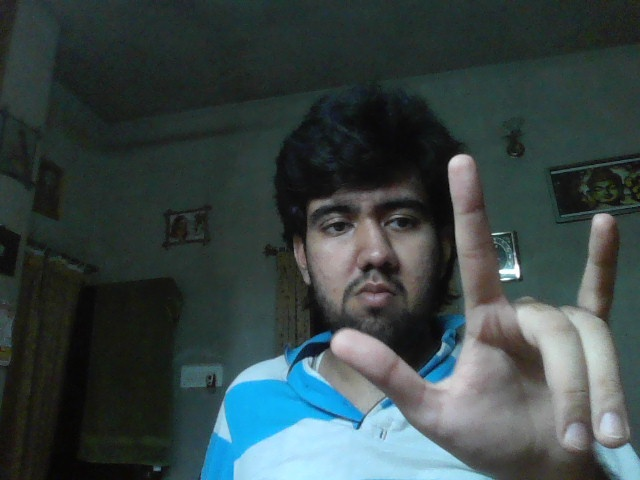ILoveYou: (330, 153, 630, 480)
